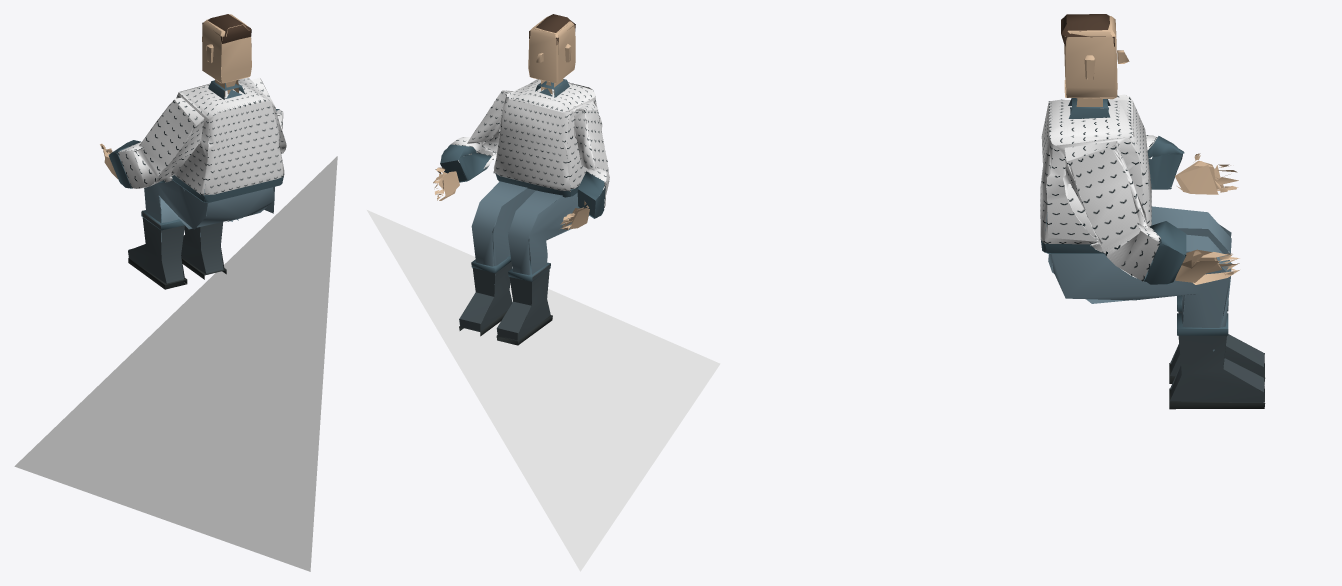
The model's file is seated_passenger_far.glb.
The picture shows the model from 3 angles, left to right: view 1: azimuth 30°, elevation 25°; view 2: azimuth 150°, elevation 25°; view 3: azimuth 270°, elevation 25°; orthographic projection. The views are drawn at different scales.
Parts seen in each view (by area): view 1: Icosphere_Seated.001, Top_Sweater_Seated.001, Footwear_Boots_Seated.001, Trousers_Work_Seated.001, Head_Seated.001, Hair_Crop_Seated.001; view 2: Icosphere_Seated.001, Top_Sweater_Seated.001, Trousers_Work_Seated.001, Footwear_Boots_Seated.001, Head_Seated.001, Hands_Seated.001, Hair_Crop_Seated.001; view 3: Top_Sweater_Seated.001, Trousers_Work_Seated.001, Footwear_Boots_Seated.001, Head_Seated.001, Hands_Seated.001, Hair_Crop_Seated.001.
Boxes of the visible parts, x1,y1,x2,y2 form: Icosphere_Seated.001: (14,156,337,571); Top_Sweater_Seated.001: (108,77,286,202); Footwear_Boots_Seated.001: (128,207,226,289); Trousers_Work_Seated.001: (144,173,274,241); Head_Seated.001: (202,14,251,83); Hair_Crop_Seated.001: (202,14,251,43); Icosphere_Seated.001: (367,210,720,571); Top_Sweater_Seated.001: (440,79,609,218); Trousers_Work_Seated.001: (471,177,588,284); Footwear_Boots_Seated.001: (459,252,552,345); Head_Seated.001: (528,16,575,83); Hands_Seated.001: (433,167,589,229); Hair_Crop_Seated.001: (529,14,575,44); Top_Sweater_Seated.001: (1040,94,1186,284); Trousers_Work_Seated.001: (1048,206,1231,351); Footwear_Boots_Seated.001: (1169,295,1265,409); Head_Seated.001: (1064,15,1117,99); Hands_Seated.001: (1175,153,1239,284); Hair_Crop_Seated.001: (1061,14,1114,46).
Bounding box in the file's own units: 1.39 × 2.36 × 1.95.
7 materials, 1 textured.
